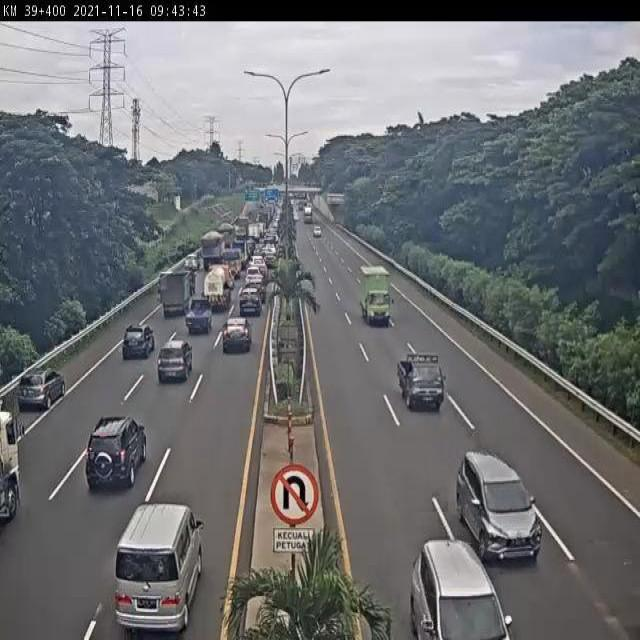car: (110, 498, 207, 640), (410, 530, 515, 640), (452, 452, 546, 565), (82, 409, 150, 492), (16, 356, 69, 415), (397, 351, 445, 412), (156, 337, 195, 388), (119, 317, 157, 363), (219, 314, 253, 358), (185, 297, 215, 340), (237, 289, 263, 319), (244, 275, 267, 304), (179, 250, 200, 274), (244, 265, 264, 288), (251, 253, 266, 272), (264, 251, 278, 268)
small truck: (157, 266, 196, 322), (357, 268, 392, 328), (220, 248, 244, 280)
truck-m-: (203, 263, 234, 313), (198, 232, 226, 276), (216, 219, 236, 248)
